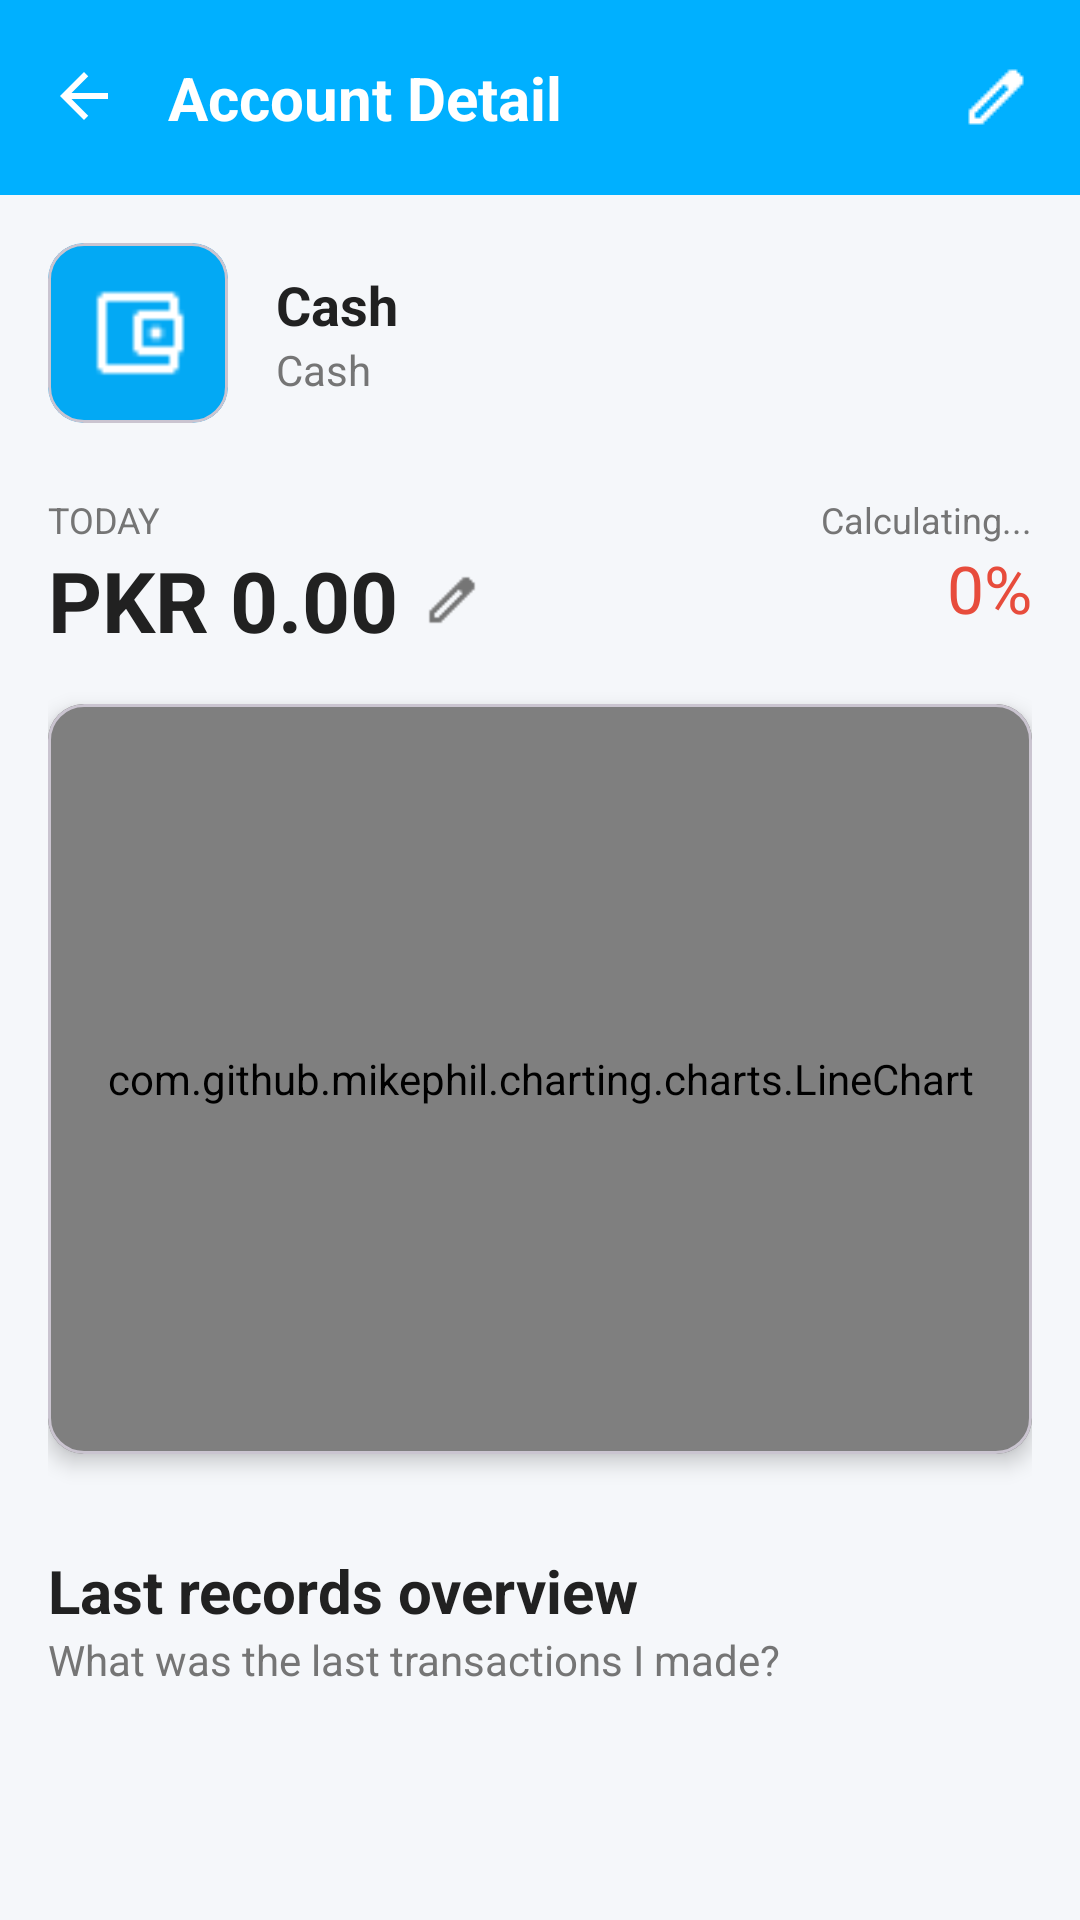

Locate icon controls on the screen. Image size 1080 × 1920, boxes as (x1, y1, x2, y2).
edit: (968, 69, 1024, 125), (429, 577, 475, 623)
wallet: (48, 243, 228, 423)
